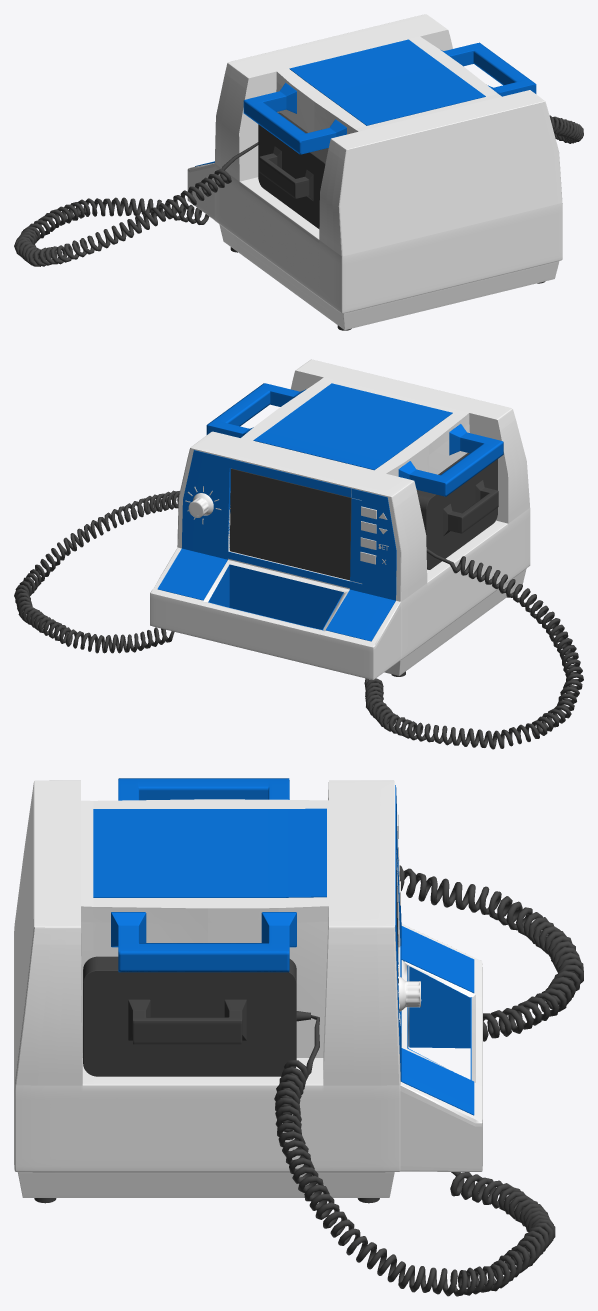
File: defibrillator.fbx
3 views of the same model, one above another, from view 1: azimuth 30°, elevation 25°; view 2: azimuth 150°, elevation 25°; view 3: azimuth 270°, elevation 25° (orthographic). The views are drawn at different scales.
Visible parts, largest first — view 1: white, blue, pCylinder11, pCylinder3, pCylinder13; view 2: white, blue, screen, pCylinder11, pCylinder13, pCylinder3; view 3: white, blue, pCylinder3, pCylinder13, pCylinder11.
Part boxes in pixels (x1,y1,x2,y2): white: (187, 14, 562, 329); blue: (195, 39, 536, 166); pCylinder11: (14, 142, 258, 266); pCylinder3: (258, 112, 328, 228); pCylinder13: (549, 115, 583, 143); white: (150, 359, 530, 679); blue: (157, 383, 503, 641); screen: (230, 468, 351, 580); pCylinder11: (364, 548, 583, 749); pCylinder13: (14, 490, 179, 653); pCylinder3: (416, 453, 498, 569); white: (14, 780, 482, 1197); blue: (93, 778, 474, 1115); pCylinder3: (83, 956, 310, 1076); pCylinder13: (274, 1015, 555, 1296); pCylinder11: (399, 865, 583, 1041).
Bounding box in the file's own units: 2.43 × 0.7829 × 1.47.
